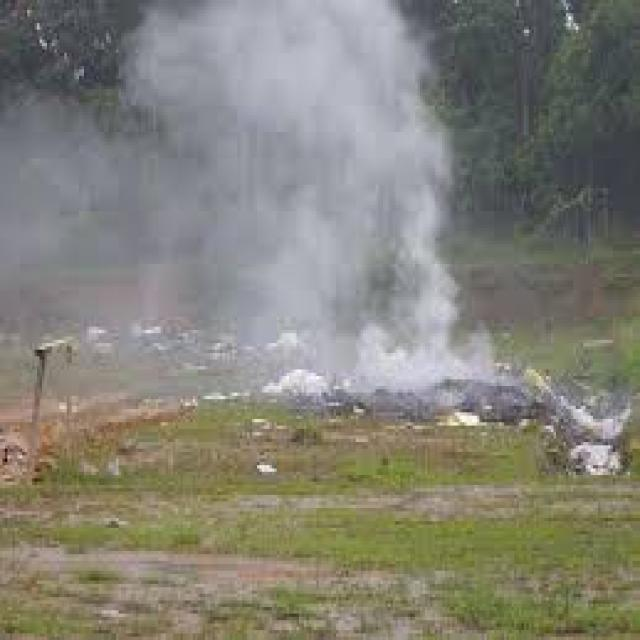Smoke: (0, 0, 492, 386)
